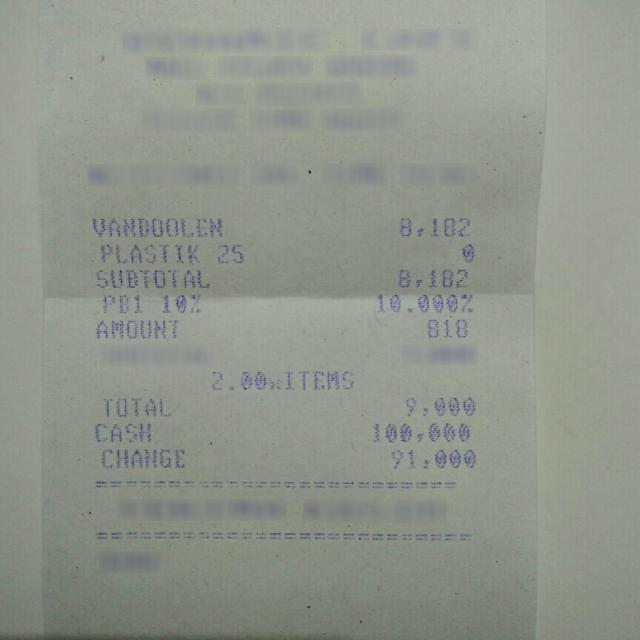kertas: (39, 0, 544, 640)
